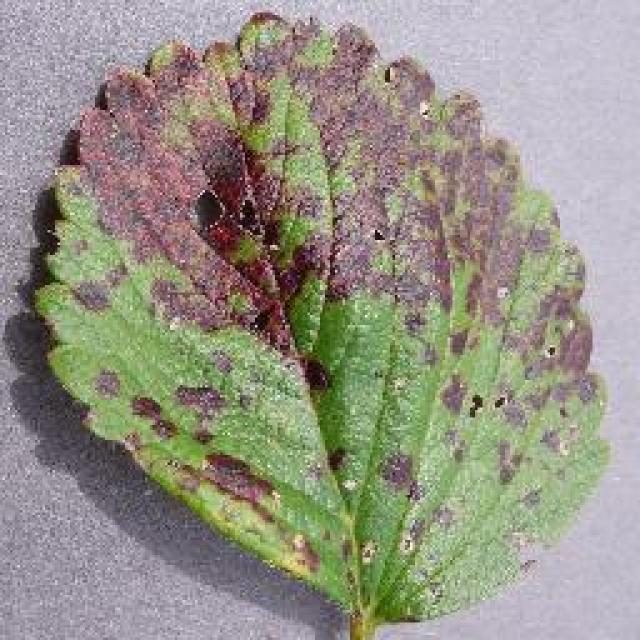Strawberry leaf scorch: (47, 35, 625, 457)
